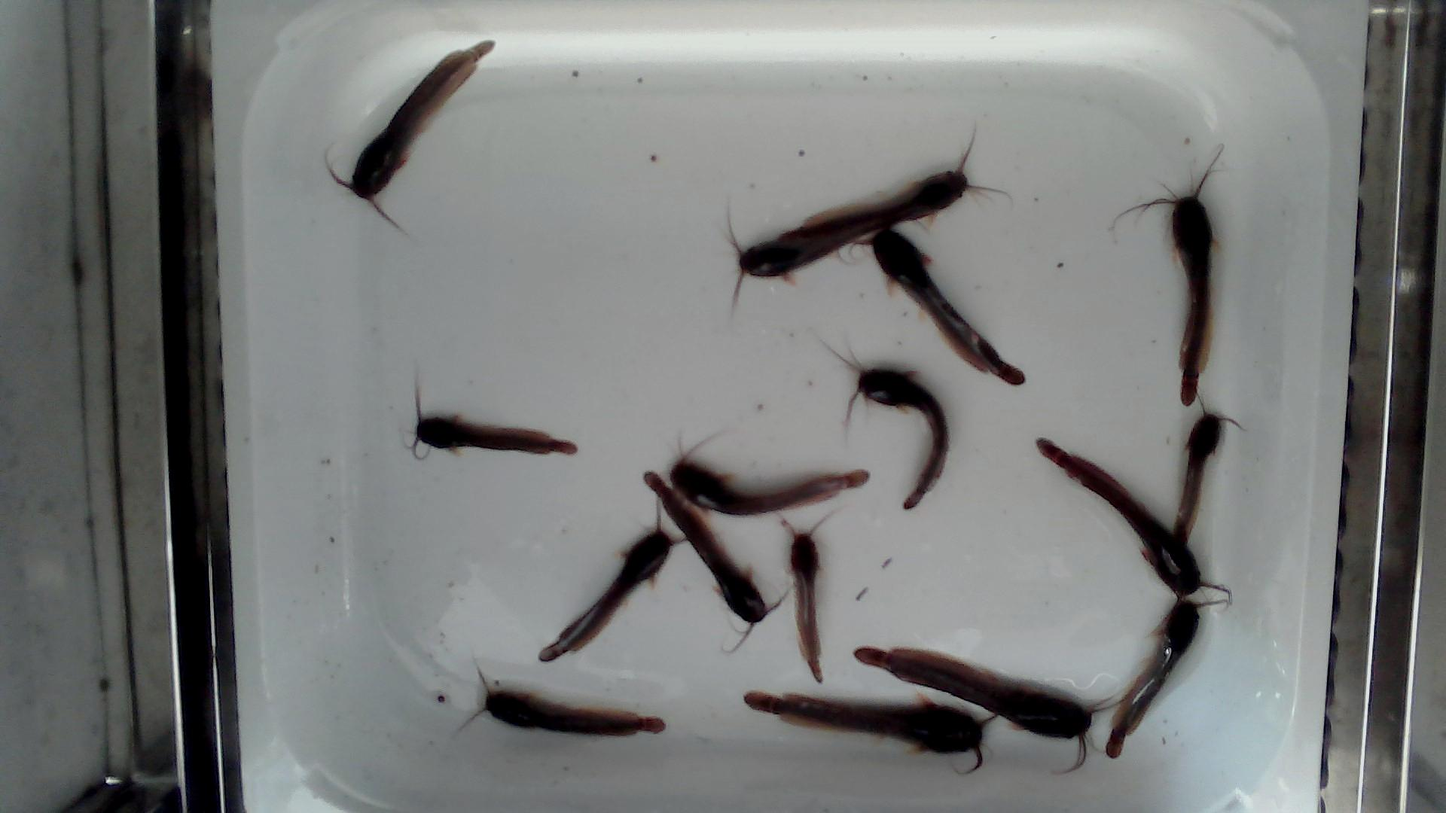lele: (1034, 436, 1232, 605), (856, 647, 1124, 767), (328, 41, 494, 224), (848, 226, 1026, 386), (780, 124, 1005, 240), (644, 473, 788, 654), (538, 494, 689, 662), (817, 336, 948, 509), (727, 205, 930, 316), (744, 691, 998, 776), (1136, 149, 1219, 405), (1106, 593, 1228, 758), (670, 434, 870, 516), (456, 673, 666, 738), (413, 385, 577, 458), (1174, 393, 1245, 550), (785, 510, 836, 684)
